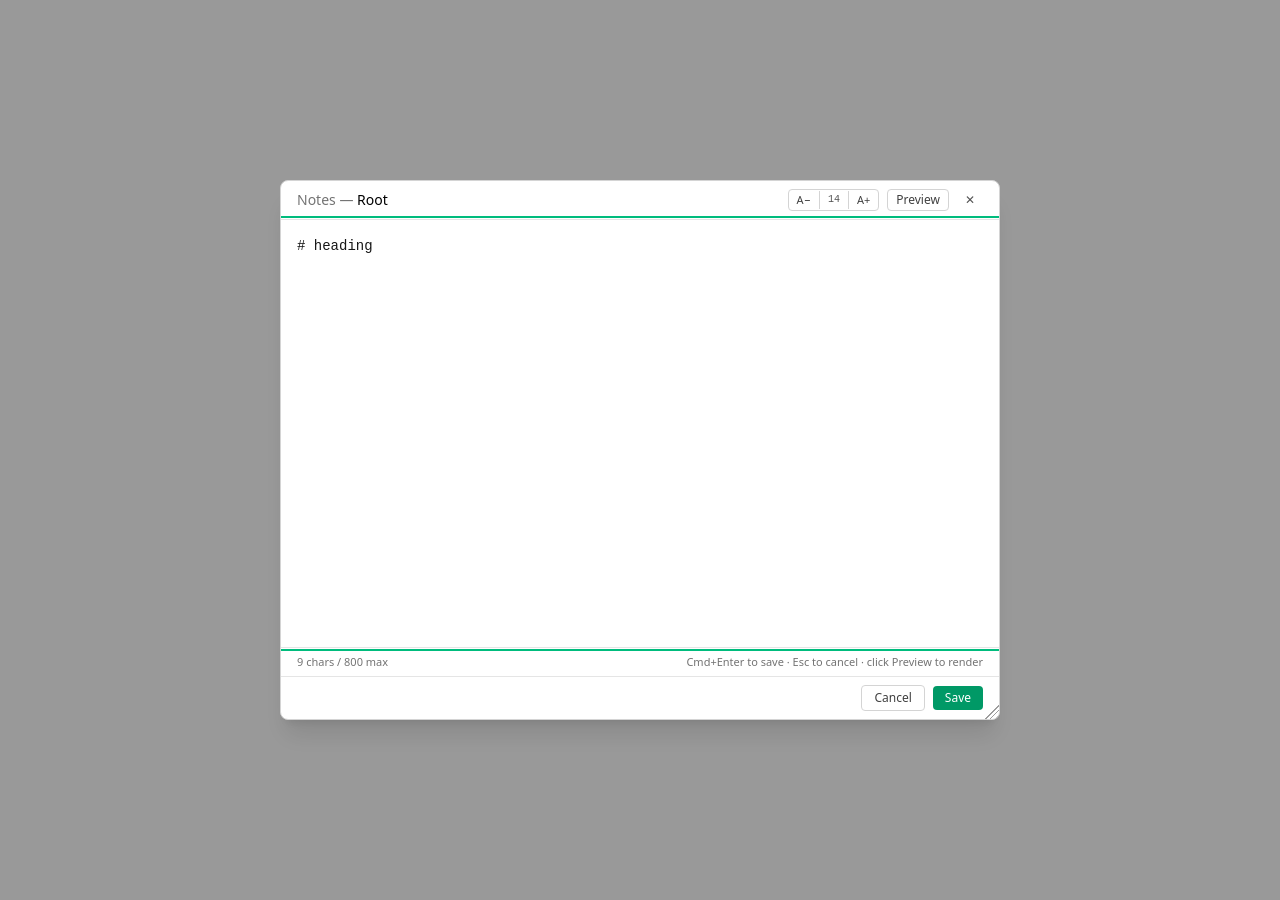
Test: NotesPopup › edit / preview toggle › Preview button switches to rendered HTML, Edit returns to textarea
The width and height of the screenshot is (1280, 900).
Expected: the text box with placeholder "Markdown notes" is shown, left=281, top=220, right=999, bottom=646
Click the button "Preview".
click(918, 200)  # box left=887, top=189, right=949, bottom=211
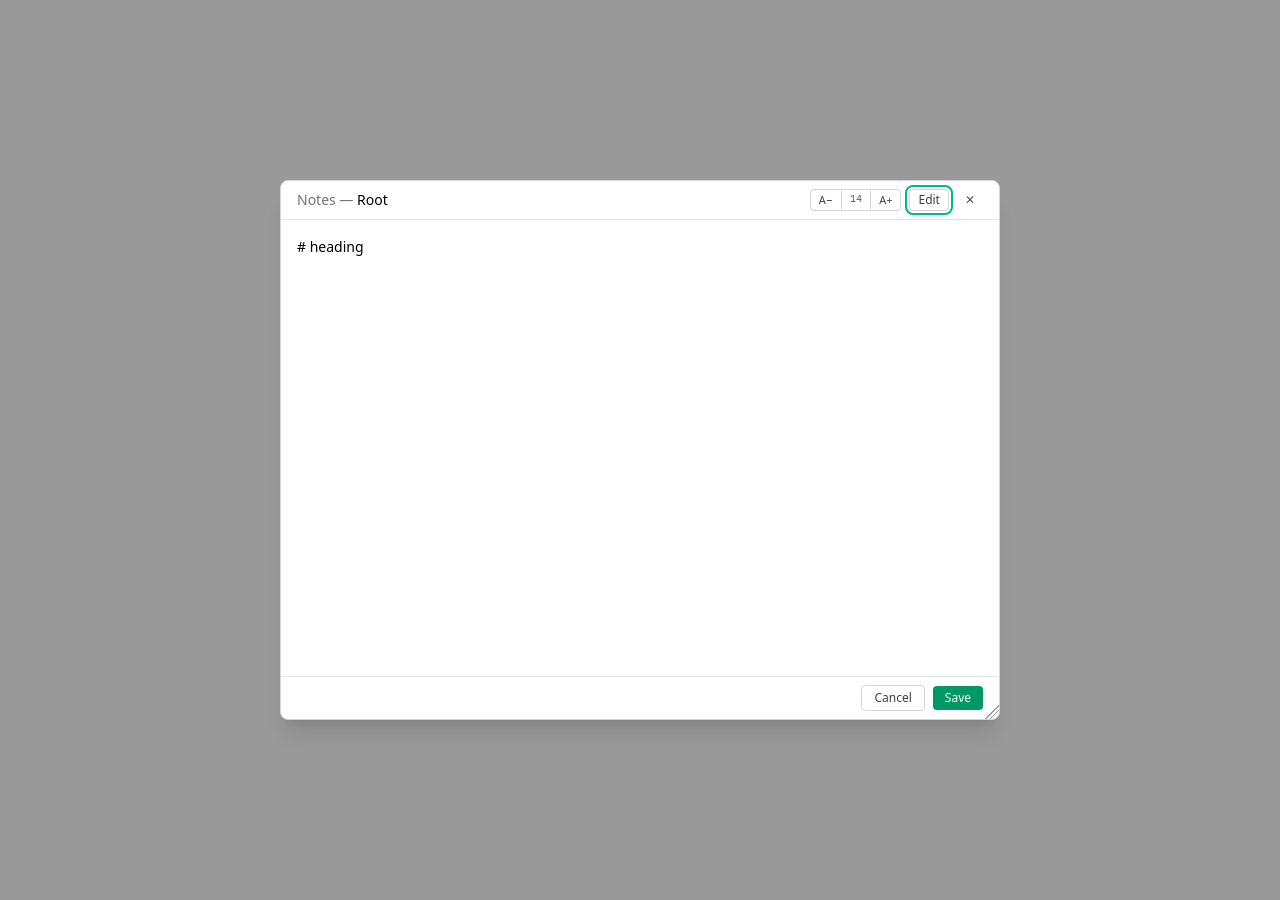
Click the button "Edit".
click(929, 200)  # box left=910, top=189, right=949, bottom=211
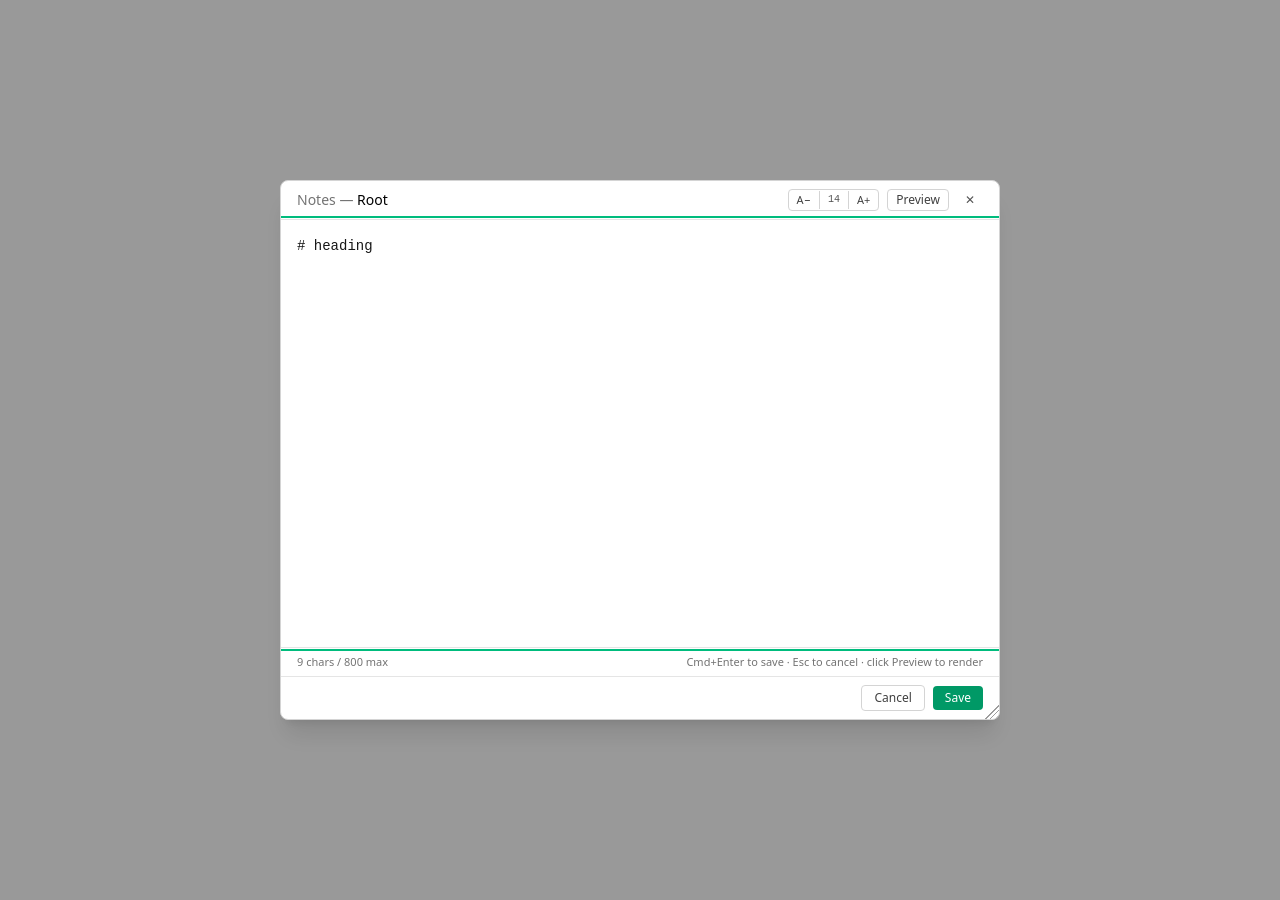
Now the text box with placeholder "Markdown notes" is shown, box left=281, top=220, right=999, bottom=646
